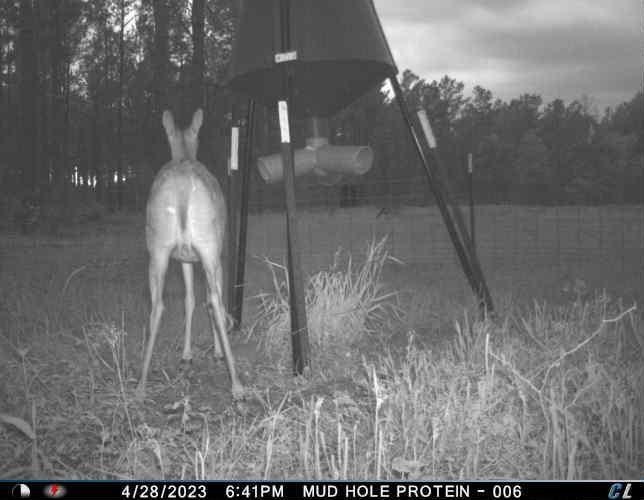Deer: (138, 106, 247, 402)
